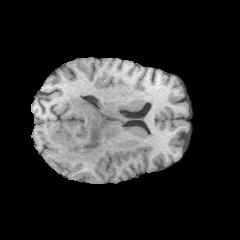glioma: (50, 96, 110, 163)
